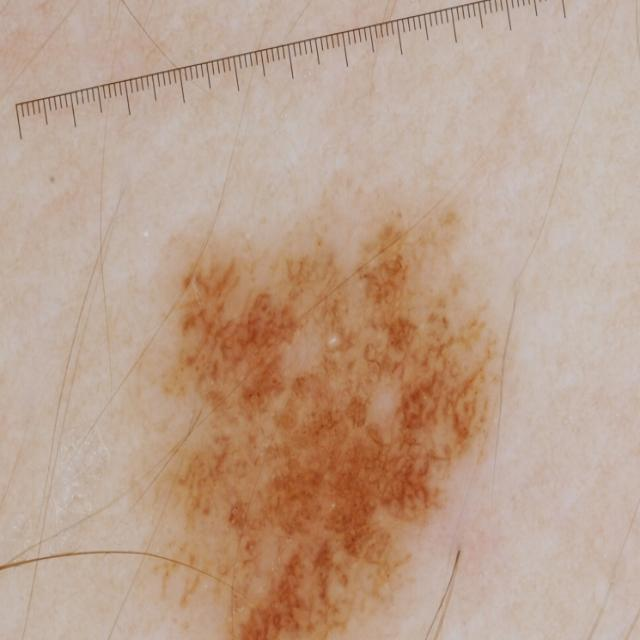Melanoma: (142, 221, 532, 640)
